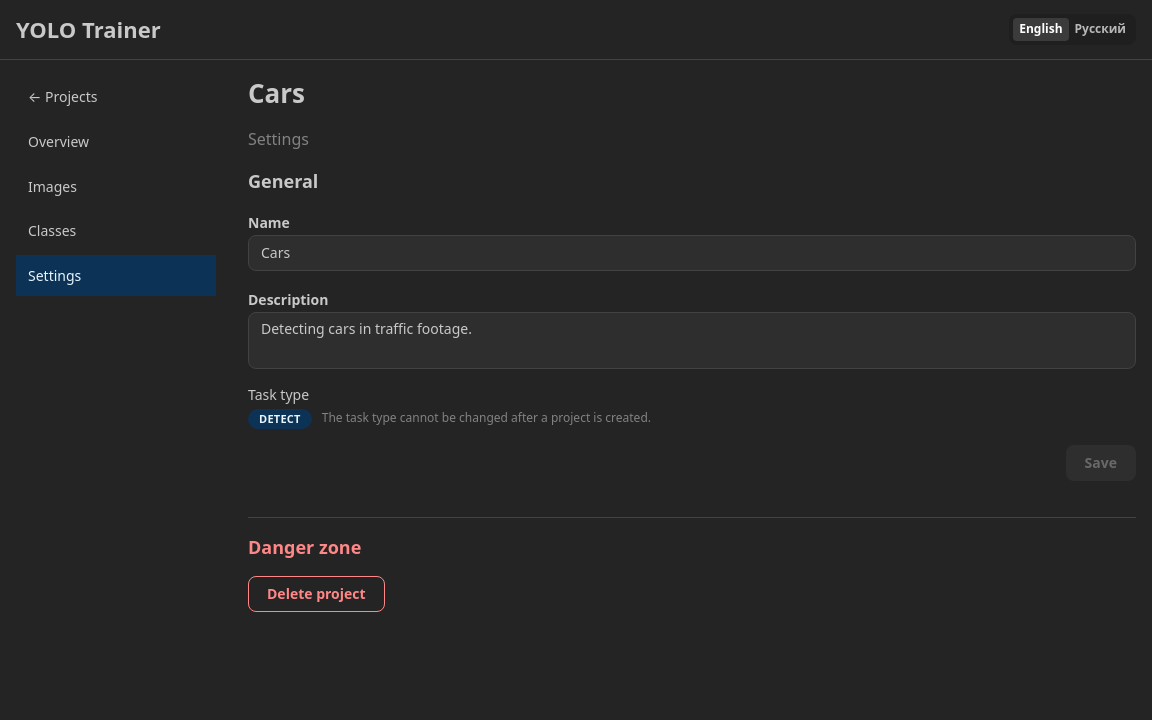
Test: ProjectSettingsPage › sends PATCH with only the changed field and reflects the new name in the page title
Replace the text in the field labelled "Name" with "Trucks" at (692, 253), box [248,235,1136,271]
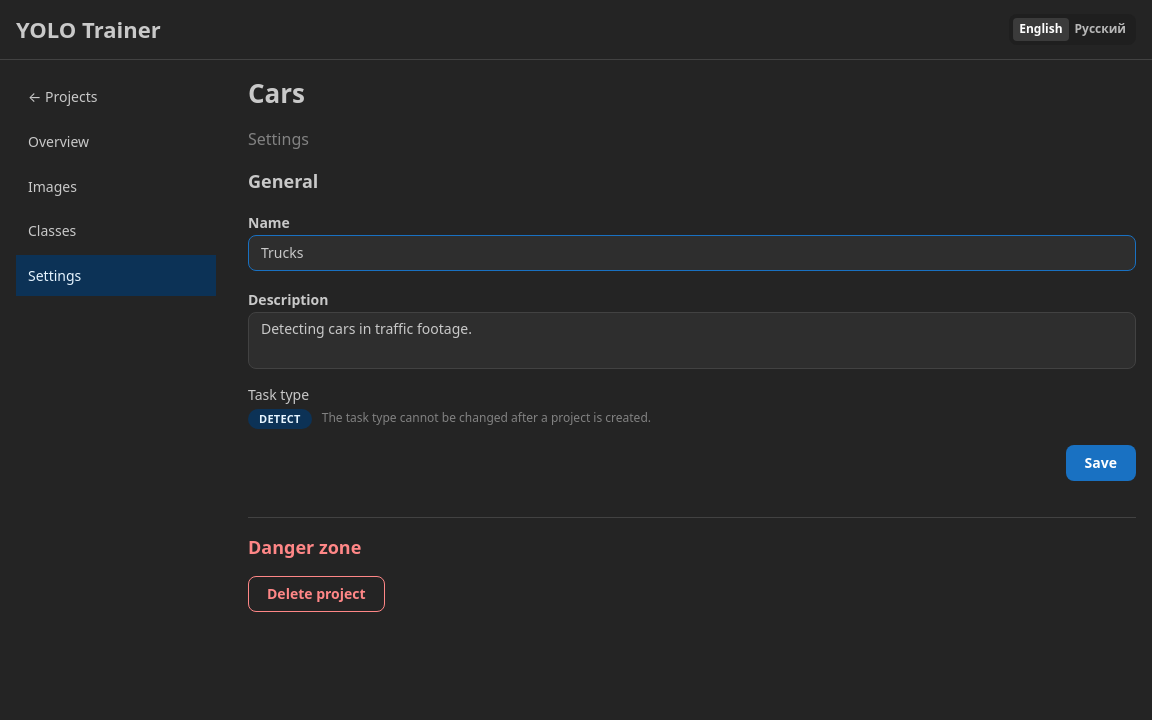
Click the button "Save" at (1101, 463), box [1066,445,1136,481]
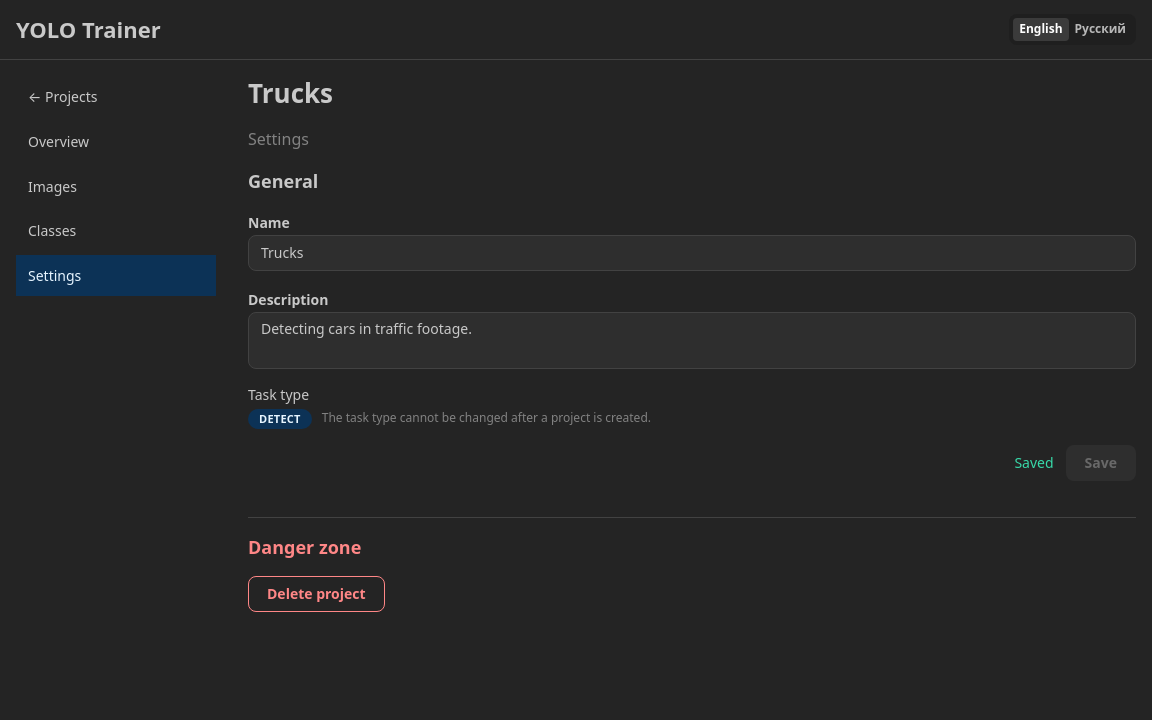
Check: the heading "Trucks" is shown, box [248,75,333,111]
